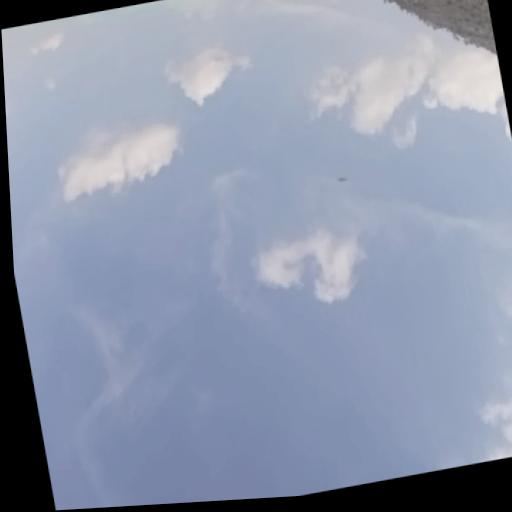drones: (337, 169, 351, 188)
